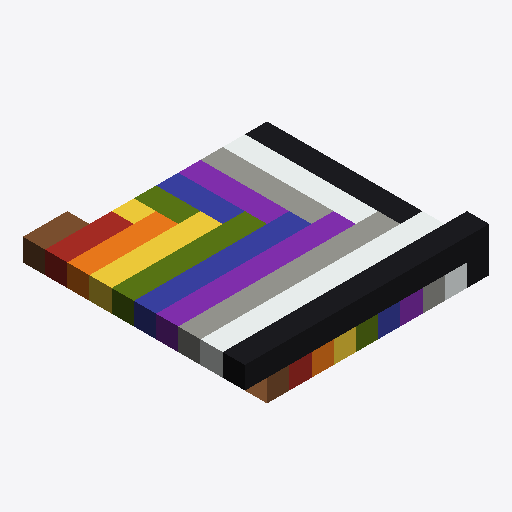
Isometric view (azimuth 45°, elevation 35.3°) of a Minecraft model made of 11 cuboids, textured from the same repository.
Parts seen in each view (by area): element 11, element 1, element 2, element 3, element 4, element 5, element 6, element 7, element 8, element 9, element 10.
Part boxes in pixels (left/top/right/bottom): element 11: left=112, top=122, right=488, bottom=402; element 1: left=223, top=211, right=488, bottom=389; element 2: left=200, top=211, right=443, bottom=377; element 3: left=178, top=211, right=399, bottom=363; element 4: left=156, top=211, right=354, bottom=351; element 5: left=134, top=211, right=310, bottom=338; element 6: left=112, top=211, right=265, bottom=325; element 7: left=89, top=211, right=221, bottom=313; element 8: left=67, top=211, right=177, bottom=299; element 9: left=45, top=211, right=132, bottom=287; element 10: left=23, top=211, right=88, bottom=274.
Bounding box in the file's own units: 11 × 2 × 10.